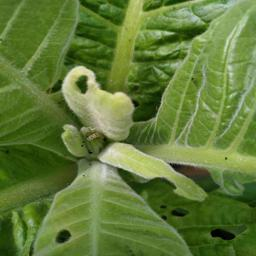Tobacco_budworm: (86, 132, 105, 141)
